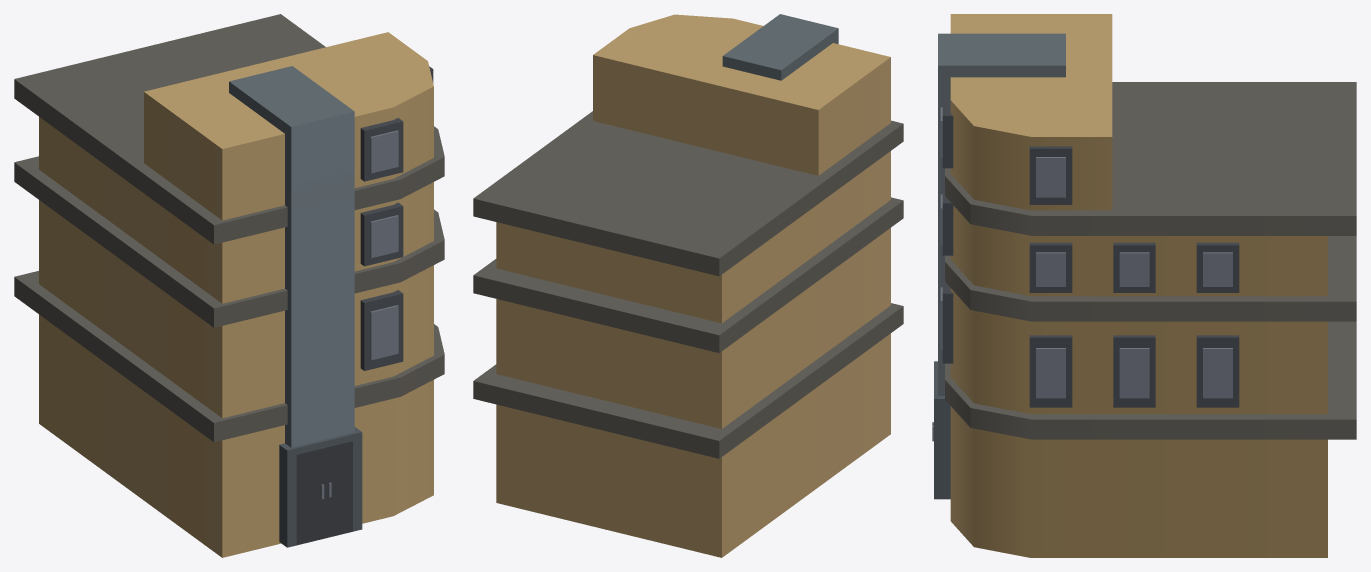
Rendered from Building_03.fbx.
The picture shows the model from 3 angles, left to right: view 1: azimuth 30°, elevation 25°; view 2: azimuth 150°, elevation 25°; view 3: azimuth 270°, elevation 25°; orthographic projection. The views are drawn at different scales.
Parts seen in each view (by area): view 1: polySurface1945; view 2: polySurface1945; view 3: polySurface1945.
Part boxes in pixels (left/top/right/bottom): polySurface1945: left=14, top=14, right=444, bottom=557; polySurface1945: left=473, top=14, right=903, bottom=557; polySurface1945: left=932, top=14, right=1356, bottom=557.
Size of the model in its own units: 1.42 by 2.13 by 1.9.
